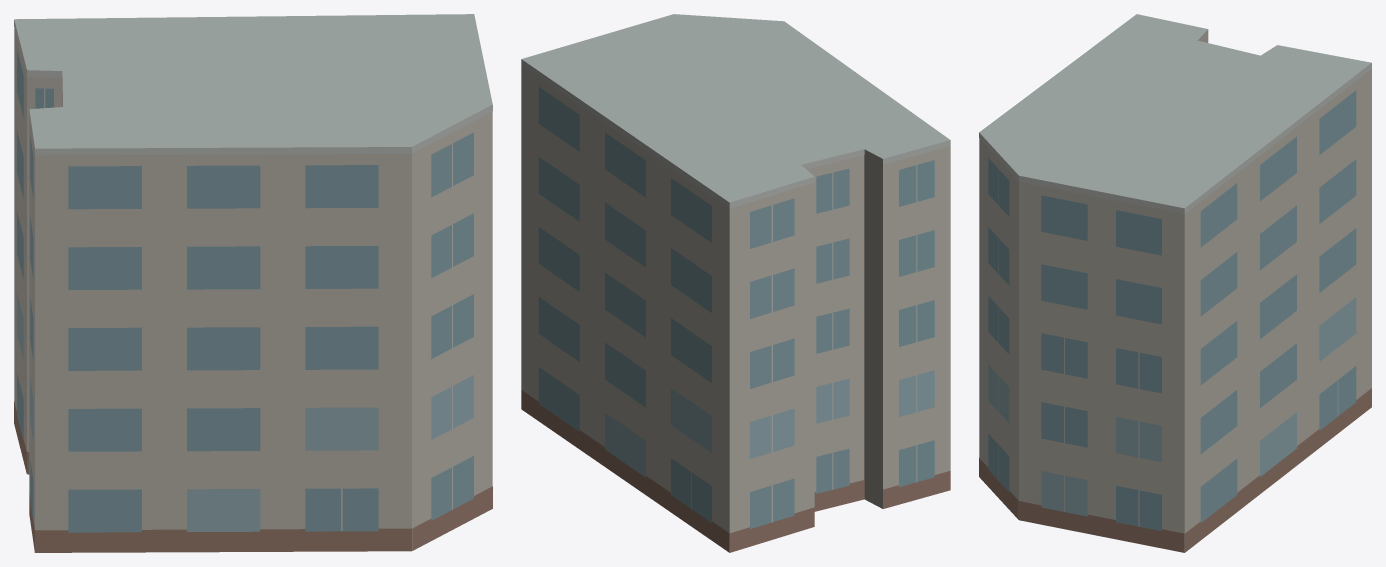
Rendered from survey-upis-32524597.glb.
The picture shows the model from 3 angles, left to right: view 1: azimuth 30°, elevation 25°; view 2: azimuth 150°, elevation 25°; view 3: azimuth 270°, elevation 25°; orthographic projection. The views are drawn at different scales.
Visible parts, largest first — view 1: survey-upis-32524597.tmp; view 2: survey-upis-32524597.tmp; view 3: survey-upis-32524597.tmp.
Boxes of the visible parts, x1,y1,x2,y2 form: survey-upis-32524597.tmp: (14, 14, 492, 552); survey-upis-32524597.tmp: (521, 14, 950, 552); survey-upis-32524597.tmp: (979, 14, 1371, 552).
Size of the model in its own units: 17.31 by 14.3 by 14.78.
